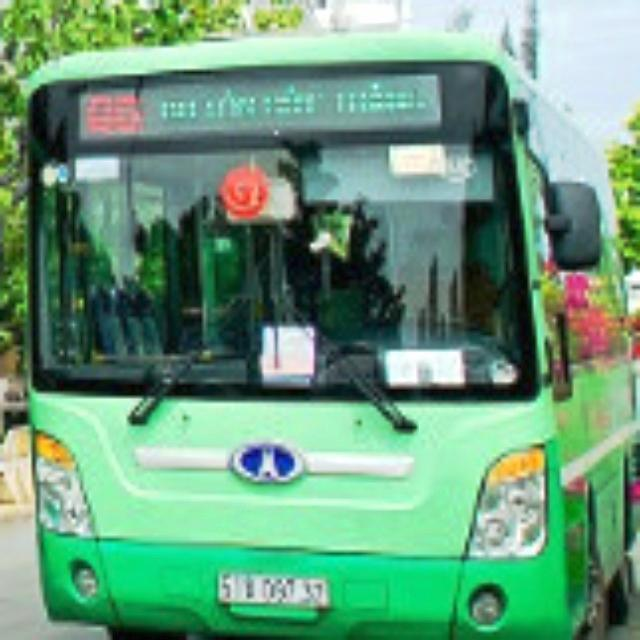Car: (20, 29, 639, 639)
